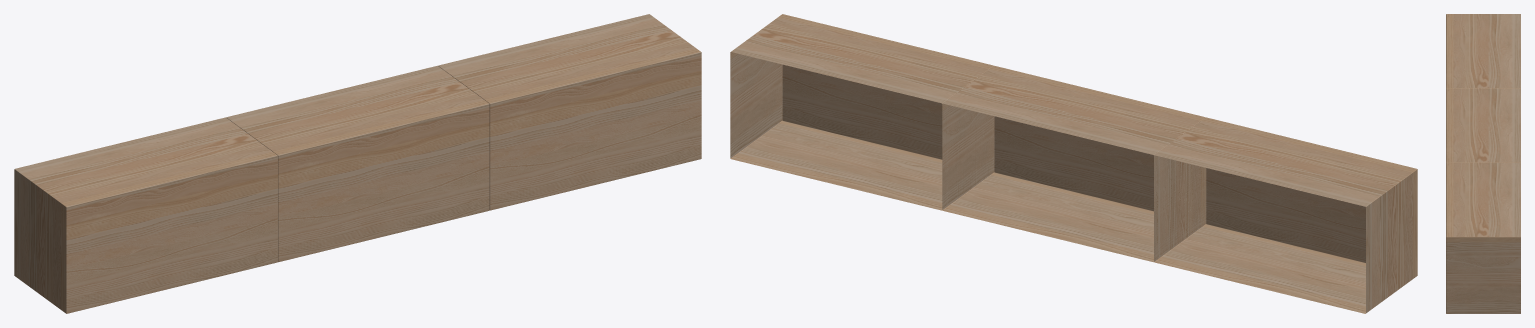
File: Table_Body.fbx
3 renders of one model, left to right at view 1: azimuth 30°, elevation 25°; view 2: azimuth 150°, elevation 25°; view 3: azimuth 270°, elevation 25°, orthographic. The views are drawn at different scales.
Visible parts, largest first — view 1: Table_Body; view 2: Table_Body; view 3: Table_Body.
Part boxes in pixels (box(x1,y1,x2,y2)): Table_Body: box(14, 14, 701, 313); Table_Body: box(730, 14, 1417, 313); Table_Body: box(1446, 14, 1520, 313).
Bounding box in the file's own units: 750 × 121 × 106.
1 material, 1 textured.
